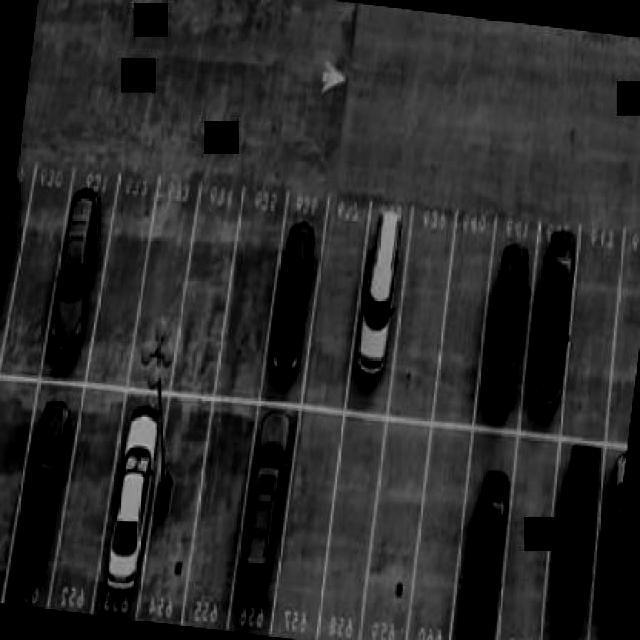space-empty: (55, 183, 109, 352), (399, 234, 453, 385), (414, 475, 460, 640), (285, 457, 333, 614), (72, 408, 125, 547), (326, 471, 372, 625), (372, 465, 417, 621), (228, 220, 274, 368), (570, 265, 616, 413), (501, 481, 546, 630), (147, 222, 190, 370), (15, 200, 60, 340), (156, 439, 199, 576), (196, 438, 237, 580), (100, 208, 136, 356), (318, 248, 360, 373), (450, 242, 488, 373), (614, 251, 640, 420), (196, 228, 230, 339), (0, 418, 23, 577)
space-occupied: (350, 216, 408, 393), (109, 411, 160, 591), (267, 212, 316, 388), (20, 401, 68, 575), (237, 438, 288, 598), (481, 260, 534, 411), (552, 460, 600, 609), (463, 475, 506, 640), (534, 229, 576, 390), (598, 469, 624, 615)
